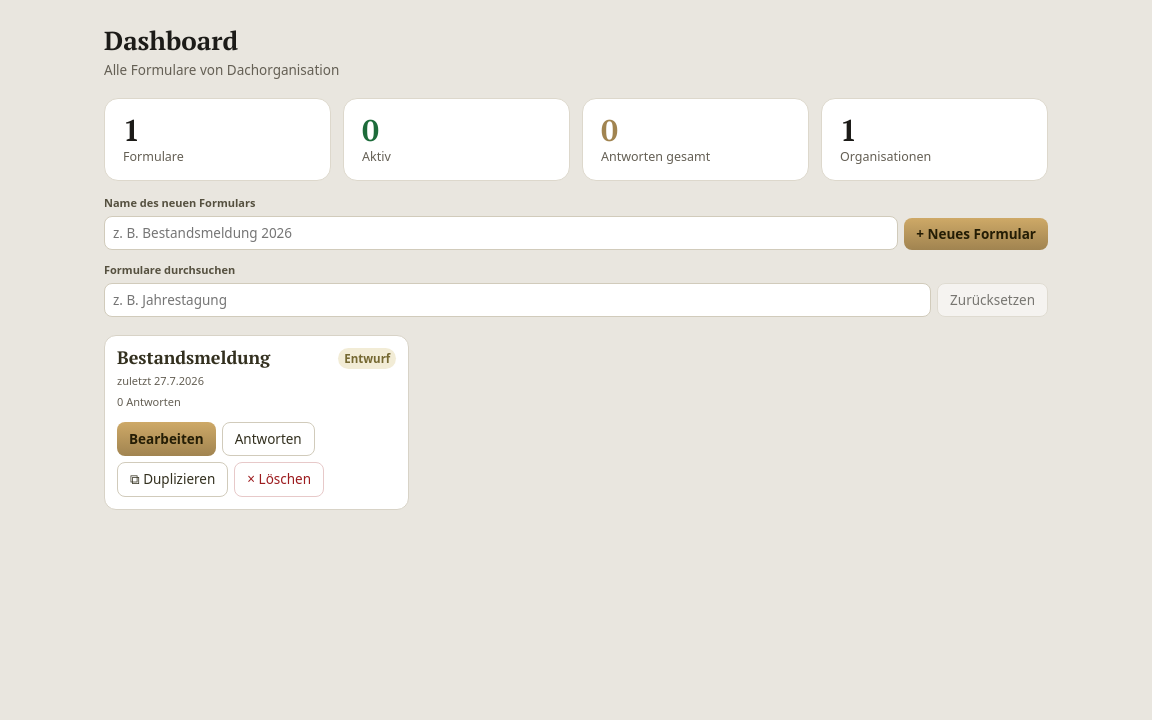
Test: DashboardView › × Löschen › asks first, in words that say this is reversible — not endgültig
Expected: the heading "Bestandsmeldung" is shown, [117, 346, 270, 369]
Click the button "× Löschen": click(279, 480) [234, 462, 324, 497]
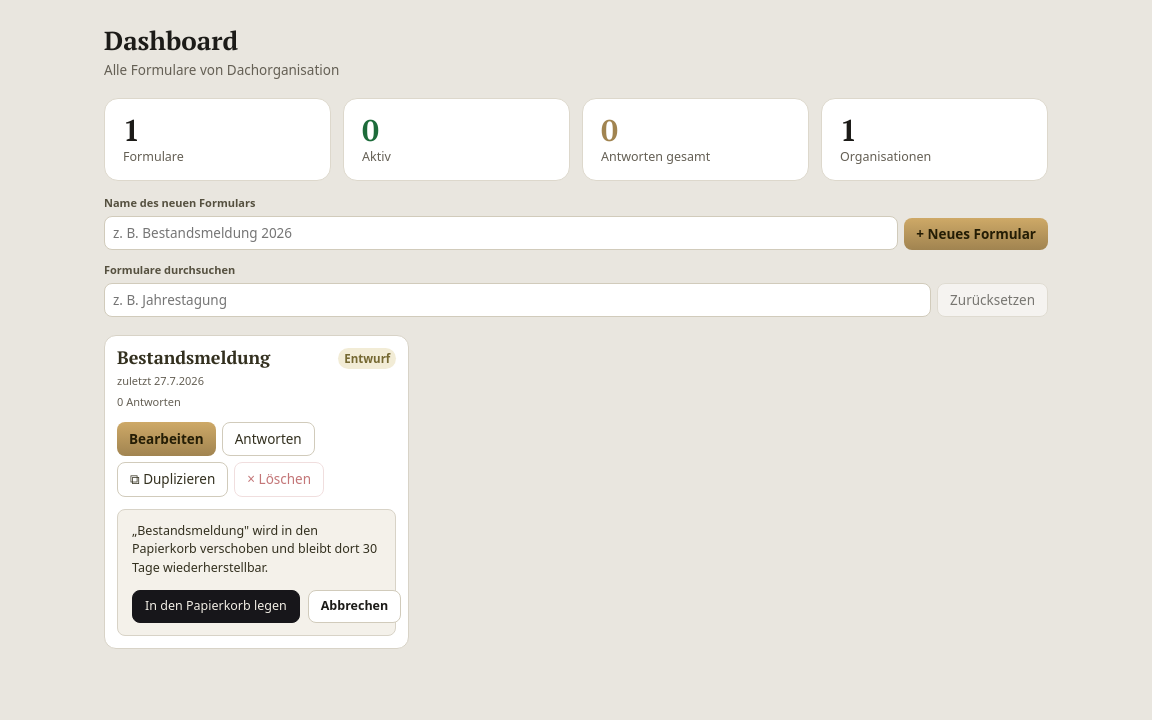
Result: the message shows "Papierkorb" at [132, 522, 377, 576]
Result: the message shows "30 Tage" at [132, 522, 377, 576]
